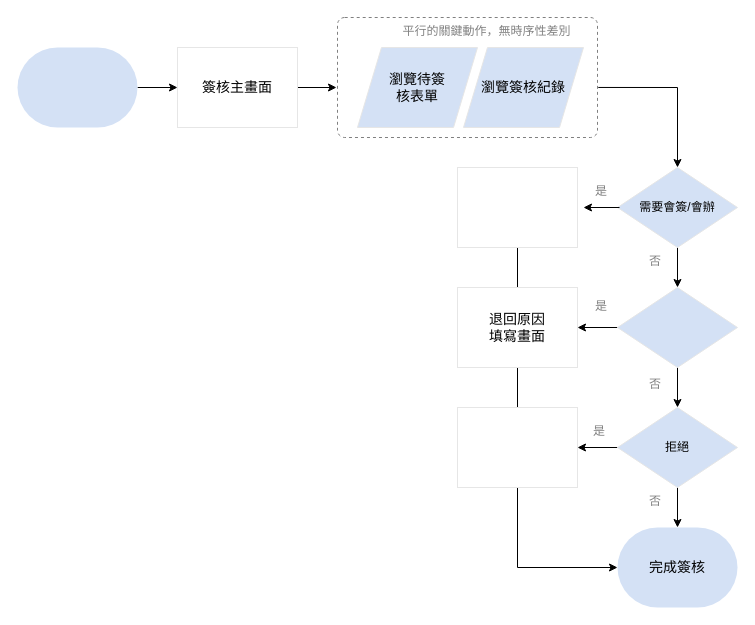
The diagram is 755 pixels wide and 625 high, and some of its shapes have lost their labels. Each missing label, with the centre of its shape:
拒絕原因 填寫畫面: the point at 517,447
會簽/會辦 設定畫面: the point at 517,207
退回: the point at 677,327
開始: the point at 77,87
